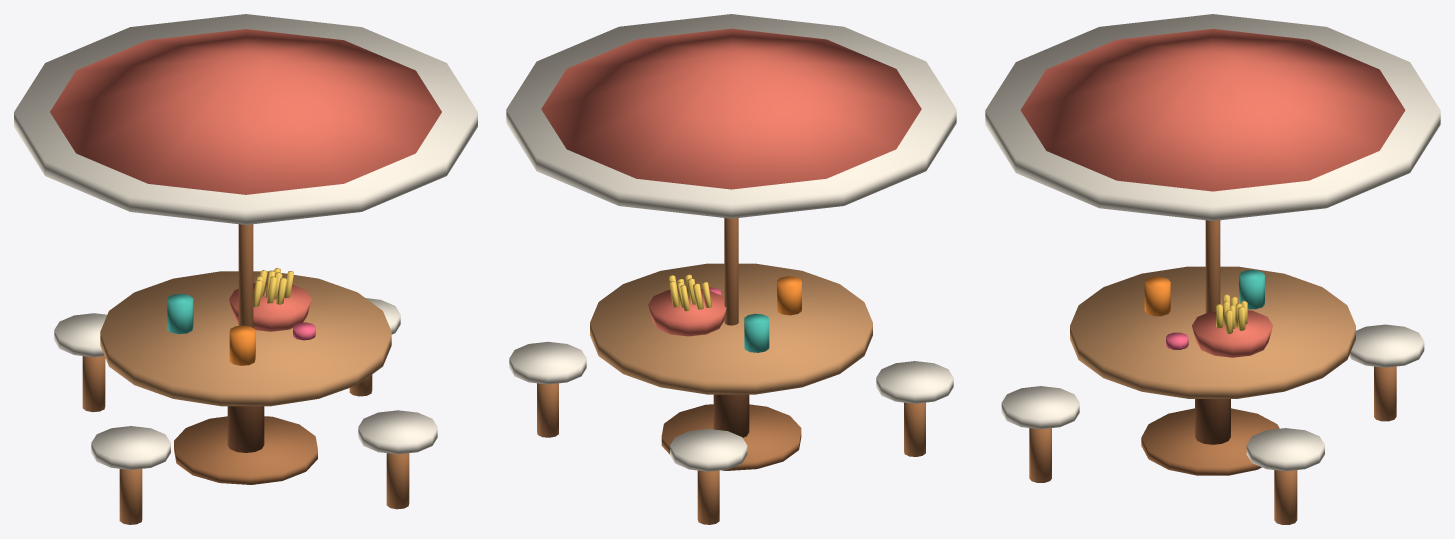
File: RestaurantKioskTable.fbx
3 renders of one model, left to right at view 1: azimuth 30°, elevation 25°; view 2: azimuth 150°, elevation 25°; view 3: azimuth 270°, elevation 25°, orthographic. The views are drawn at different scales.
Parts seen in each view (by area): view 1: RestaurantKioskTable; view 2: RestaurantKioskTable; view 3: RestaurantKioskTable.
Boxes of the visible parts, x1,y1,x2,y2 form: RestaurantKioskTable: (14,14,477,524); RestaurantKioskTable: (506,14,956,524); RestaurantKioskTable: (985,14,1440,524).
Size of the model in its own units: 2.8 by 2.61 by 2.8.
